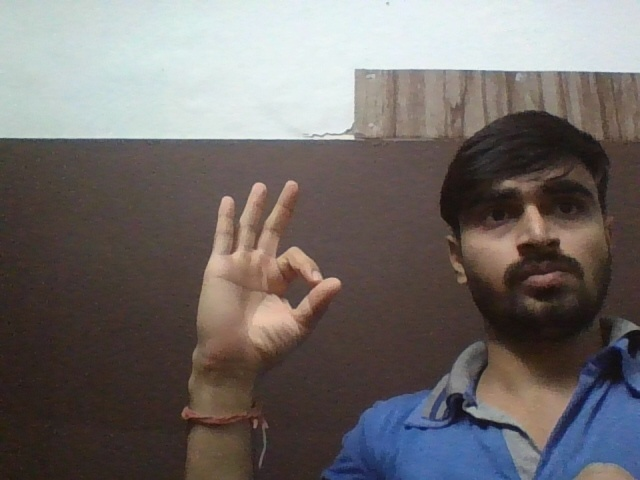F: (189, 173, 362, 383)
